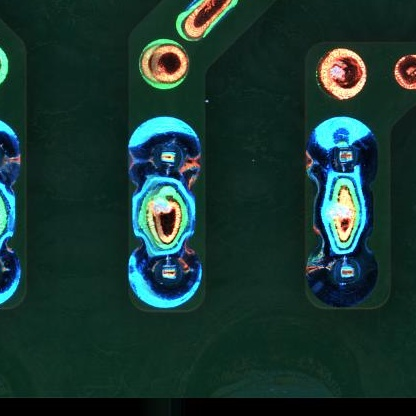spot: (305, 117, 380, 189), (129, 117, 201, 188), (307, 241, 379, 308), (128, 246, 202, 310)
